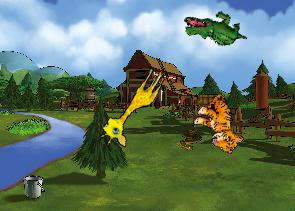crocodile: (182, 6, 247, 52)
giraffe: (96, 59, 168, 152)
tiger: (186, 89, 256, 157)
